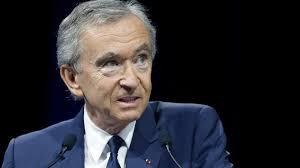Persons: (47, 1, 164, 125)
